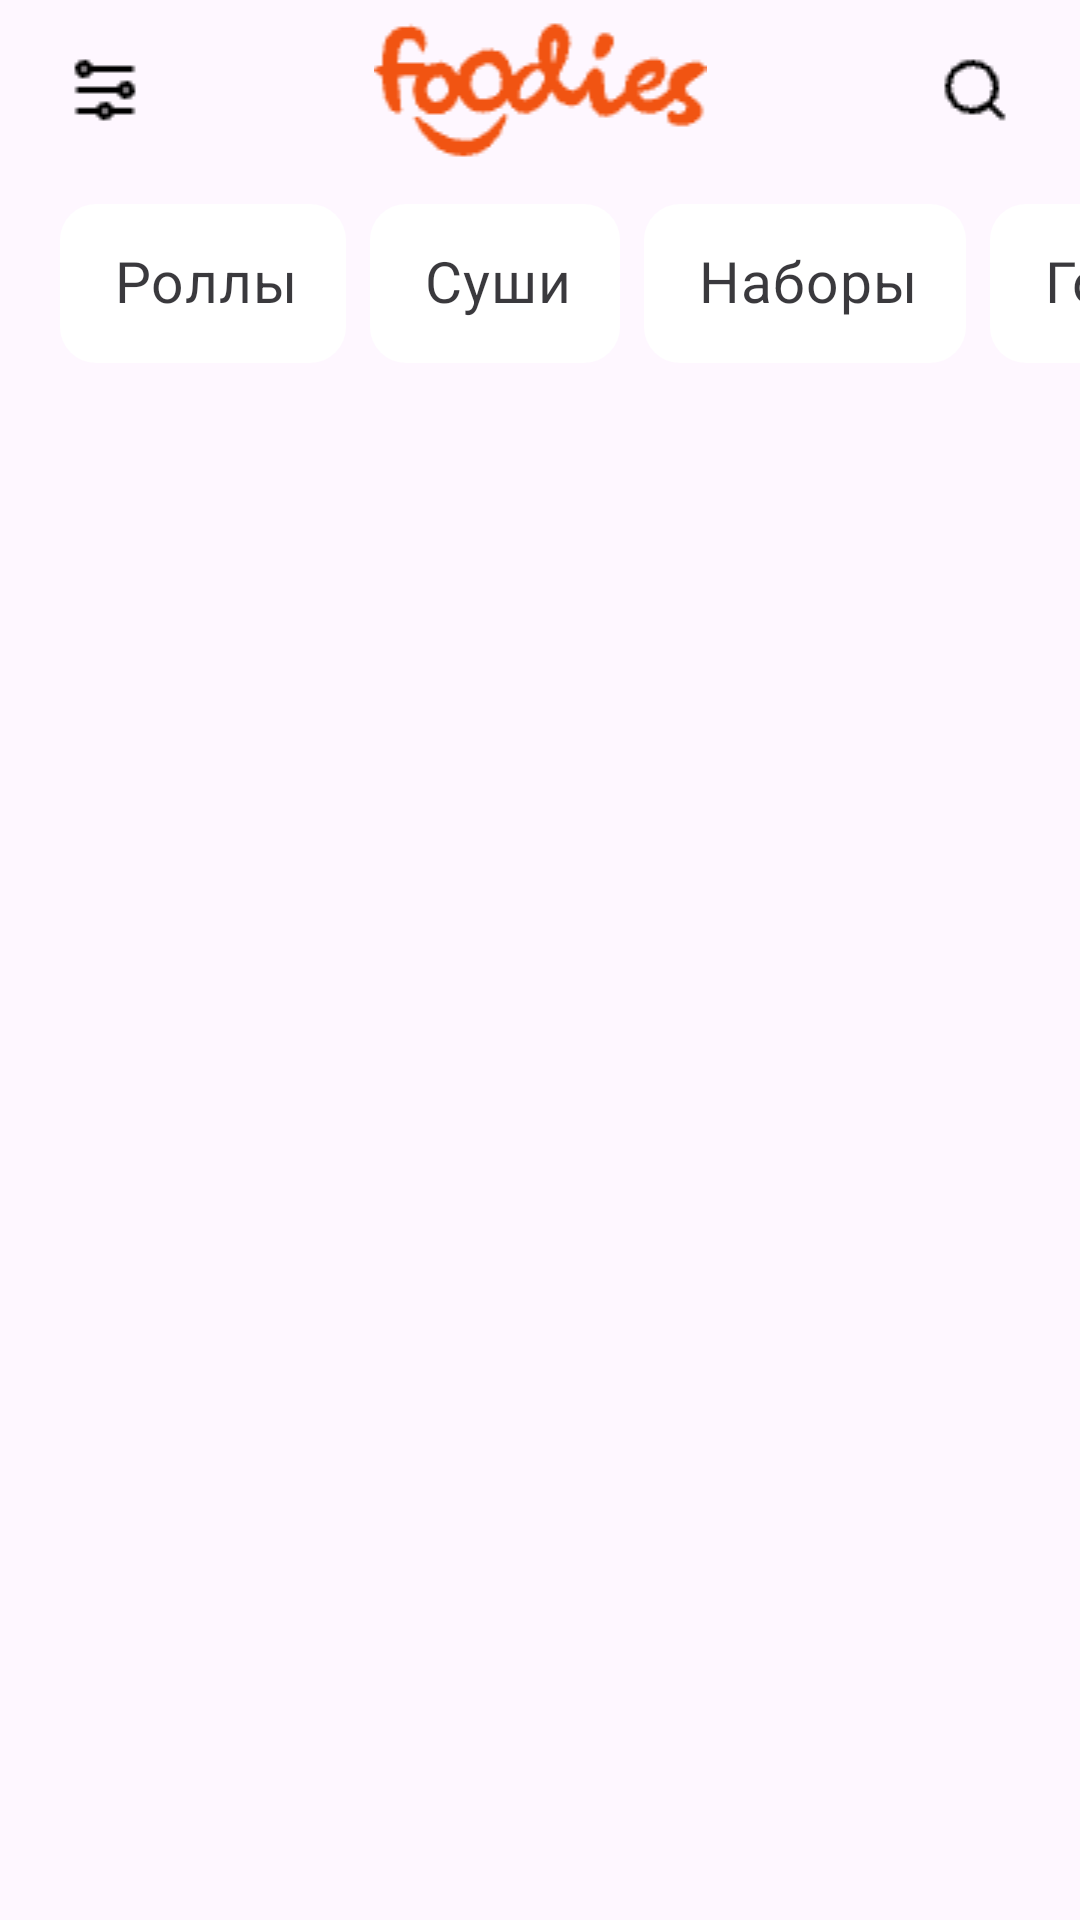

Where icons sit on this 1080 x 1920 app screen, as (x1, y1, x2, y2):
filter: (74, 59, 136, 121)
search: (944, 59, 1006, 121)
